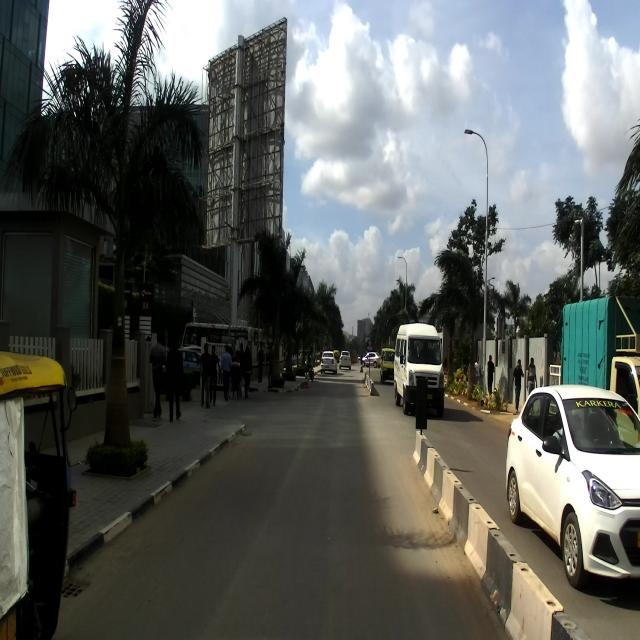Car_Hyundai: (506, 384, 640, 590)
autorickshaw: (0, 350, 77, 638)
mini-bus: (394, 322, 444, 415)
